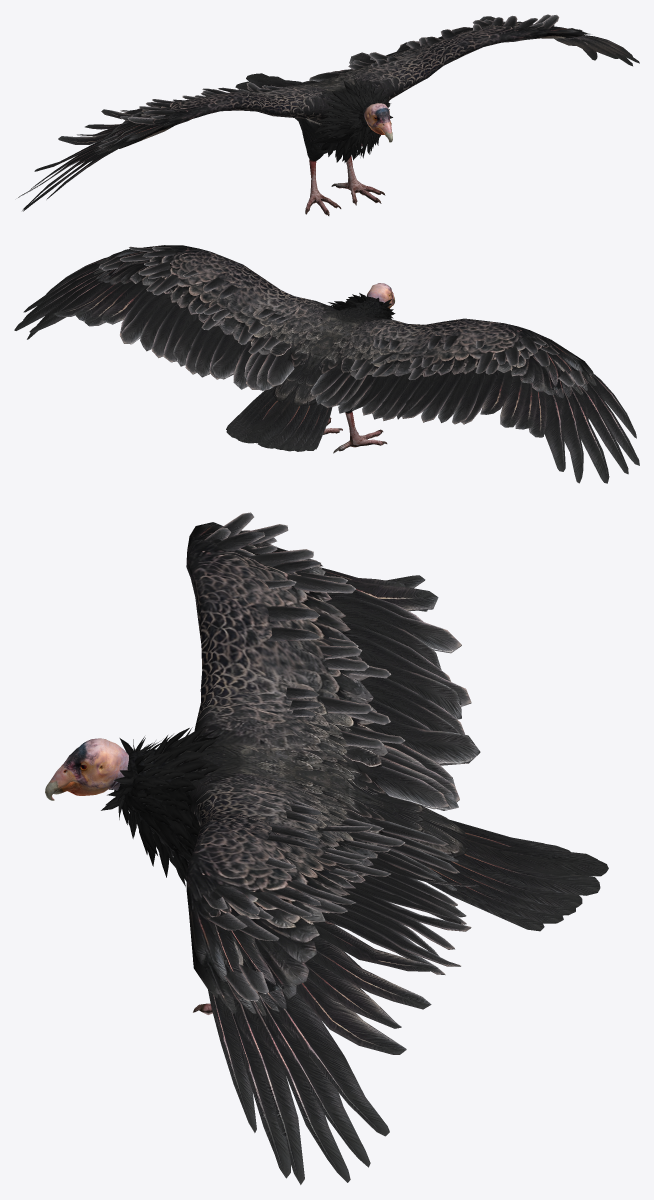
The model's file is california-condor.glb.
3 renders of one model, top to bottom at view 1: azimuth 30°, elevation 25°; view 2: azimuth 150°, elevation 25°; view 3: azimuth 270°, elevation 25°, orthographic. The views are drawn at different scales.
Parts seen in each view (by area): view 1: sm_3_0_0_2_7, sm_1_0_0_0_3, sm_2_0_0_1_5; view 2: sm_3_0_0_2_7, sm_1_0_0_0_3, sm_2_0_0_1_5; view 3: sm_3_0_0_2_7, sm_1_0_0_0_3, sm_2_0_0_1_5.
Part boxes in pixels (x1,y1,x2,y2): sm_3_0_0_2_7: (18, 14, 639, 215); sm_1_0_0_0_3: (313, 78, 392, 162); sm_2_0_0_1_5: (364, 103, 392, 142); sm_3_0_0_2_7: (14, 245, 639, 483); sm_1_0_0_0_3: (328, 293, 395, 319); sm_2_0_0_1_5: (367, 283, 394, 308); sm_3_0_0_2_7: (114, 512, 608, 1184); sm_1_0_0_0_3: (101, 725, 223, 886); sm_2_0_0_1_5: (45, 738, 128, 800).
Size of the model in its own units: 2.67 by 0.5861 by 1.06.
Materials: 2 (2 with a texture image).
